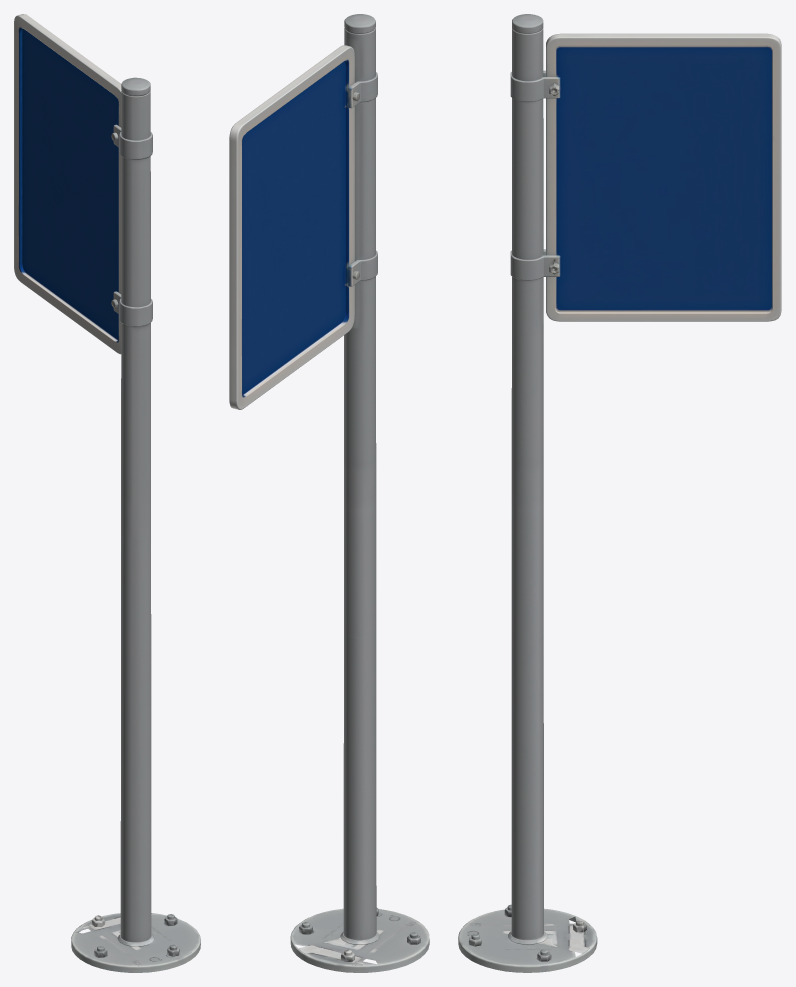
File: tripo_convert_31308e2b-32da-42b0-8bad-07f6e549686e.glb
3 views of the same model, side by side, from view 1: azimuth 30°, elevation 25°; view 2: azimuth 150°, elevation 25°; view 3: azimuth 270°, elevation 25° (orthographic). The views are drawn at different scales.
Visible parts, largest first — view 1: tripo_node_31308e2b-32da-42b0-8bad-07f6e549686e; view 2: tripo_node_31308e2b-32da-42b0-8bad-07f6e549686e; view 3: tripo_node_31308e2b-32da-42b0-8bad-07f6e549686e.
Boxes of the visible parts, box(x1,y1,x2,y2) form: tripo_node_31308e2b-32da-42b0-8bad-07f6e549686e: box(14, 14, 200, 972); tripo_node_31308e2b-32da-42b0-8bad-07f6e549686e: box(229, 14, 429, 972); tripo_node_31308e2b-32da-42b0-8bad-07f6e549686e: box(458, 14, 781, 972).
Bounding box in the file's own units: 0.1362 × 0.9995 × 0.3169.
Materials: 1 (1 with a texture image).
